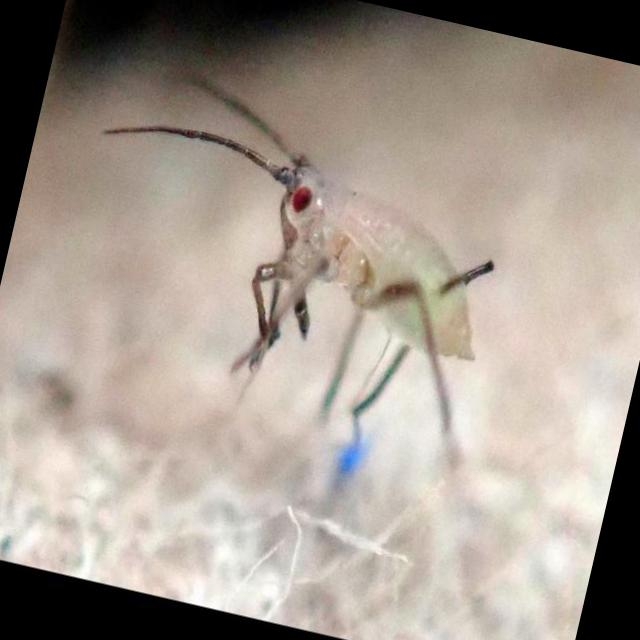aphid: (178, 107, 526, 432)
